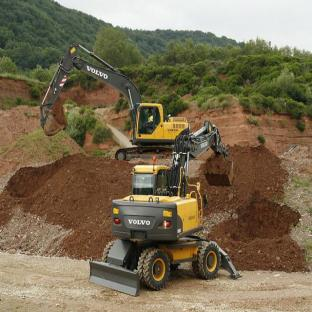ExcavationMachinery: (112, 120, 264, 292), (30, 39, 191, 149)
